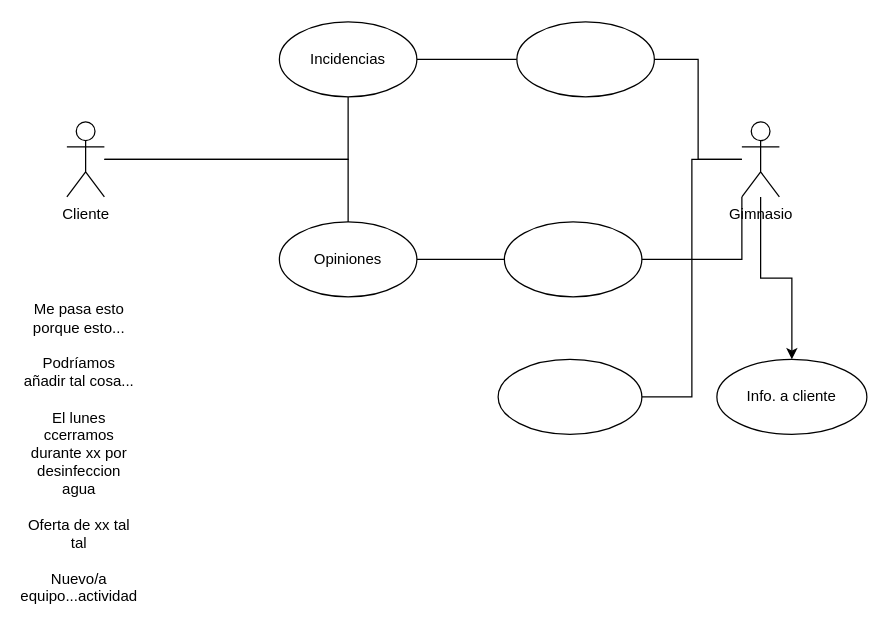
Image size: 889x628. Some labels were removed from this diagram. The shapes that lost their labels are listed below. From the top down, each one's centre as x and y in pixels, then its label:
(x=585, y=59): Registrar Incidencias
(x=572, y=259): Registrar Opiniones
(x=569, y=396): Clasificar temas de cliente
